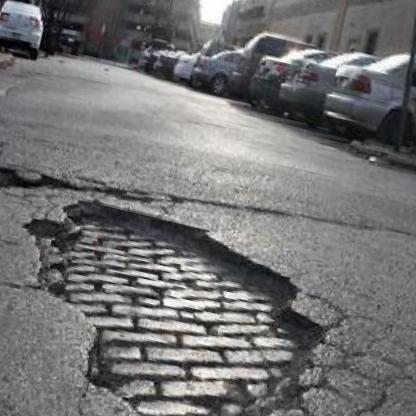pothole: (0, 180, 357, 416), (0, 146, 36, 205)
